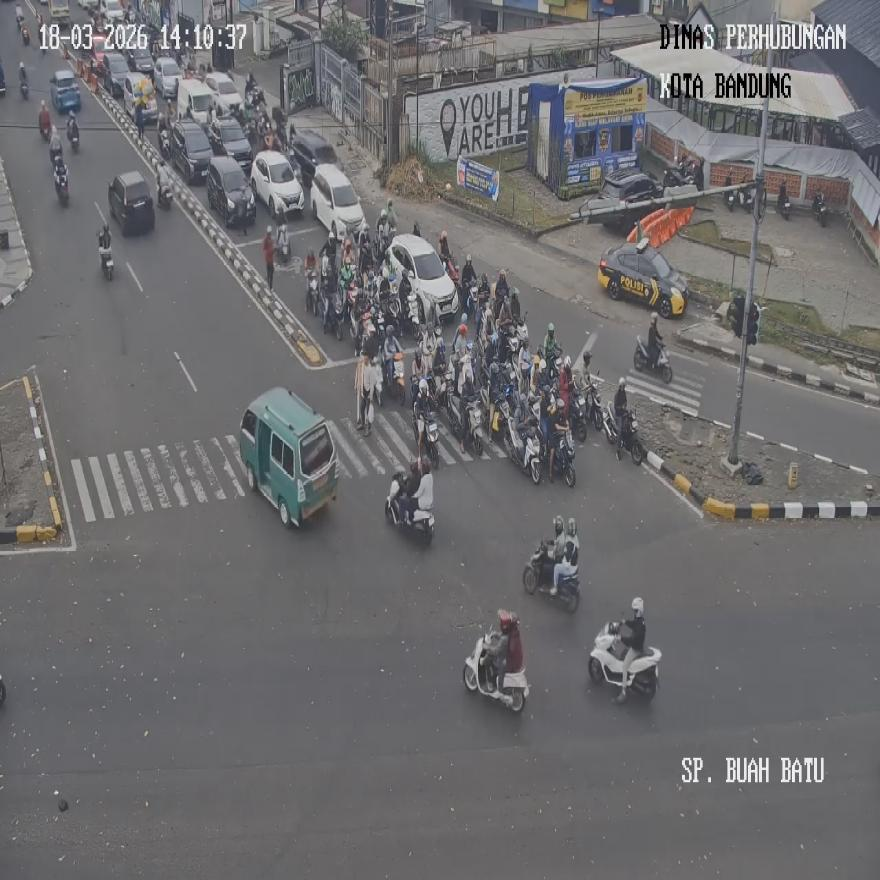Motor: (239, 387, 339, 528)
Truk: (588, 621, 659, 704), (463, 630, 530, 712), (522, 540, 579, 611), (386, 469, 434, 544), (505, 418, 541, 483), (608, 404, 646, 464), (634, 334, 672, 382), (549, 426, 575, 486), (382, 344, 406, 405), (461, 396, 484, 458), (416, 411, 439, 470), (581, 379, 602, 440), (353, 309, 376, 358), (740, 178, 766, 216), (52, 155, 69, 207), (404, 290, 422, 338), (322, 292, 341, 337), (342, 281, 358, 334), (156, 166, 174, 210), (305, 268, 320, 314), (98, 236, 113, 280), (274, 224, 290, 265), (15, 7, 30, 46), (811, 191, 827, 226), (723, 174, 738, 210), (38, 100, 51, 141), (777, 183, 791, 220), (66, 113, 79, 150), (158, 123, 170, 162), (19, 62, 28, 99)
